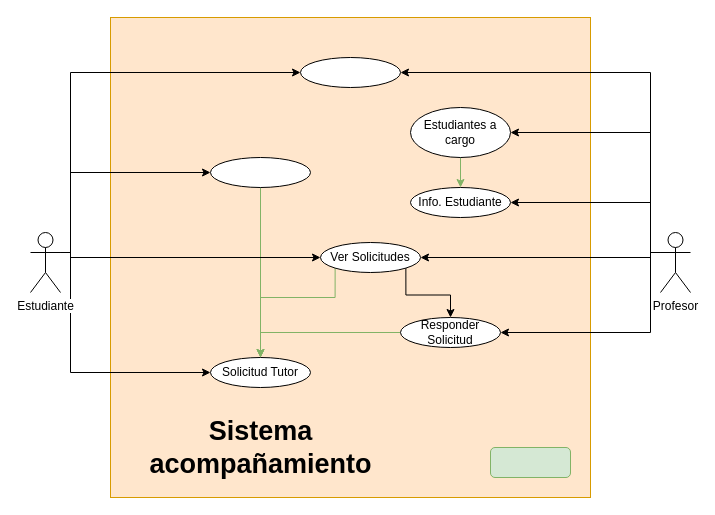
Image size: 715x515. Some labels were removed from this diagram. The centre of each missing label's shape, as x and y in pixels:
"<include>" belongs at point (530, 462).
"Info. Tutor" belongs at point (260, 172).
"Iniciar Sesión" belongs at point (350, 72).
